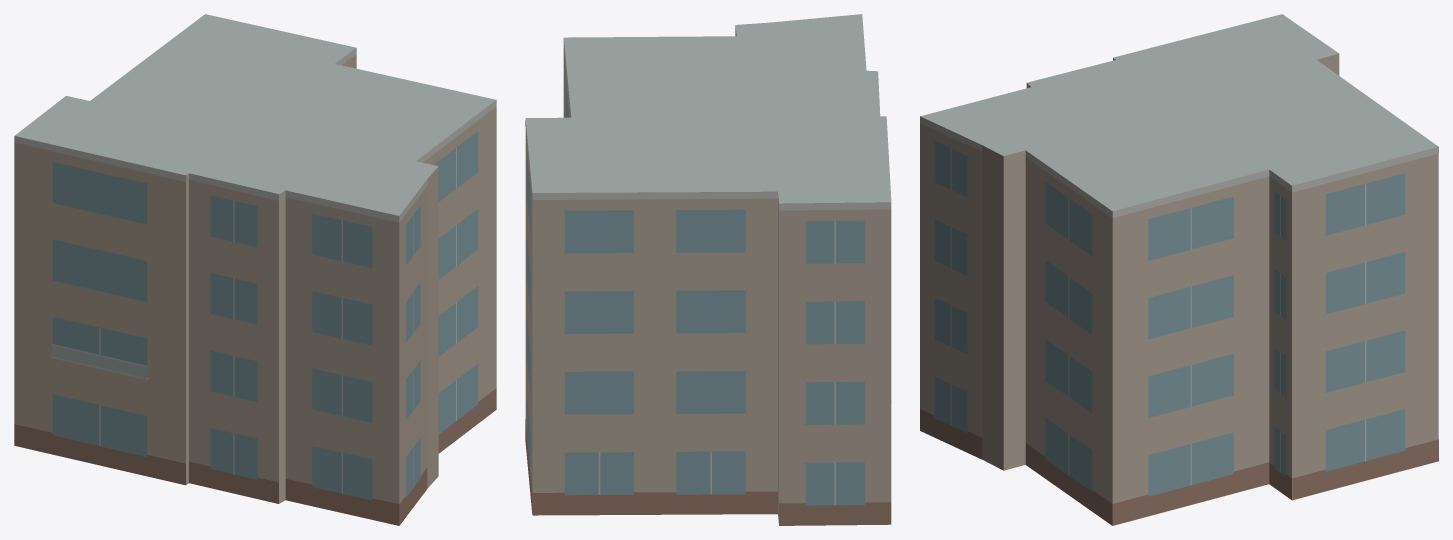
File: survey-upis-32604003.glb
The picture shows the model from 3 angles, left to right: view 1: azimuth 30°, elevation 25°; view 2: azimuth 150°, elevation 25°; view 3: azimuth 270°, elevation 25°; orthographic projection. The views are drawn at different scales.
Parts seen in each view (by area): view 1: survey-upis-32604003.tmp; view 2: survey-upis-32604003.tmp; view 3: survey-upis-32604003.tmp.
Boxes of the visible parts, x1,y1,x2,y2 form: survey-upis-32604003.tmp: (14, 14, 496, 525); survey-upis-32604003.tmp: (525, 14, 891, 525); survey-upis-32604003.tmp: (920, 14, 1438, 525).
Size of the model in its own units: 15.22 by 11.3 by 16.9.
